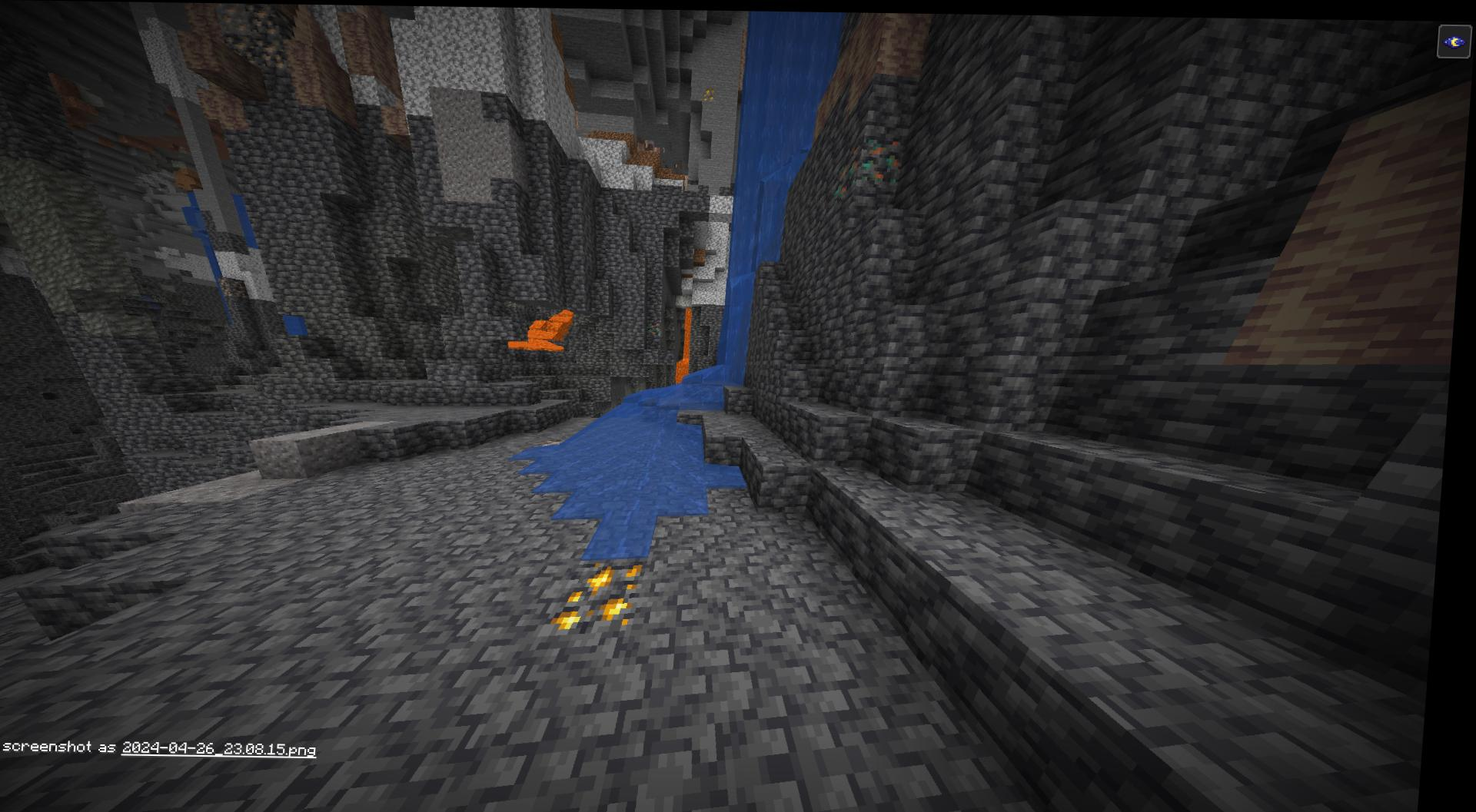gold ore: (563, 558, 659, 630)
iron ore: (216, 3, 287, 64), (221, 274, 253, 301)
